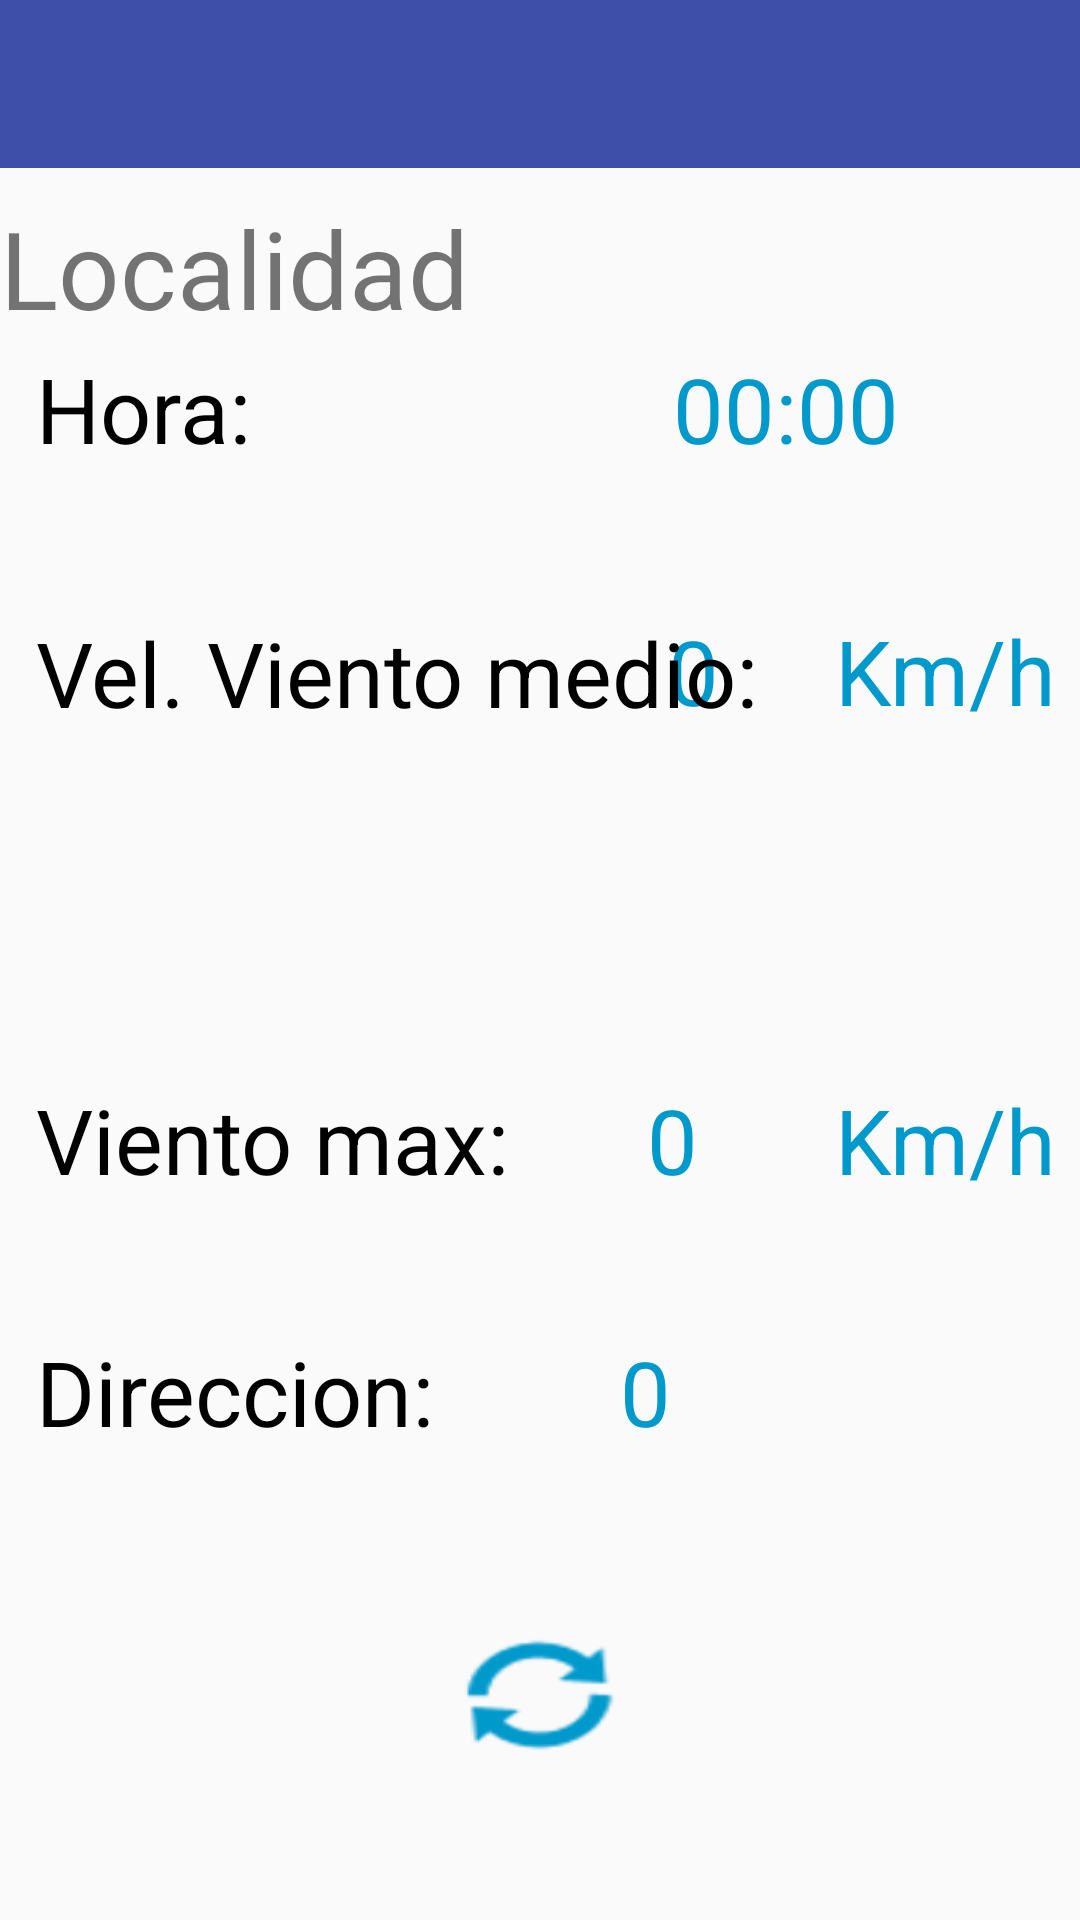

Where icons sit on this 1080w x 1920h app screen, as (x1, y1, x2, y2):
popup sync: (467, 1640, 613, 1750)
